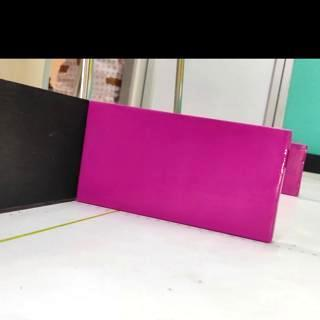xparking: (77, 101, 290, 245), (284, 144, 307, 195)
